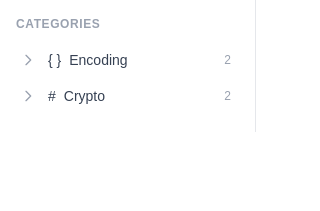
Test: Sidebar › expandable categories › shows tools when category is expanded
Click the button named "expand encoding" at (28, 60), box [16,48,40,72]
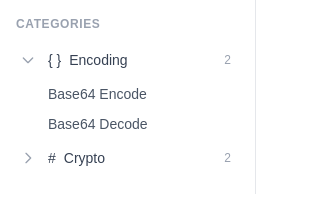
Expected: the link "Base64 Encode" is shown, [48,86,147,102]
Expected: the link "Base64 Decode" is shown, [48,116,148,132]
